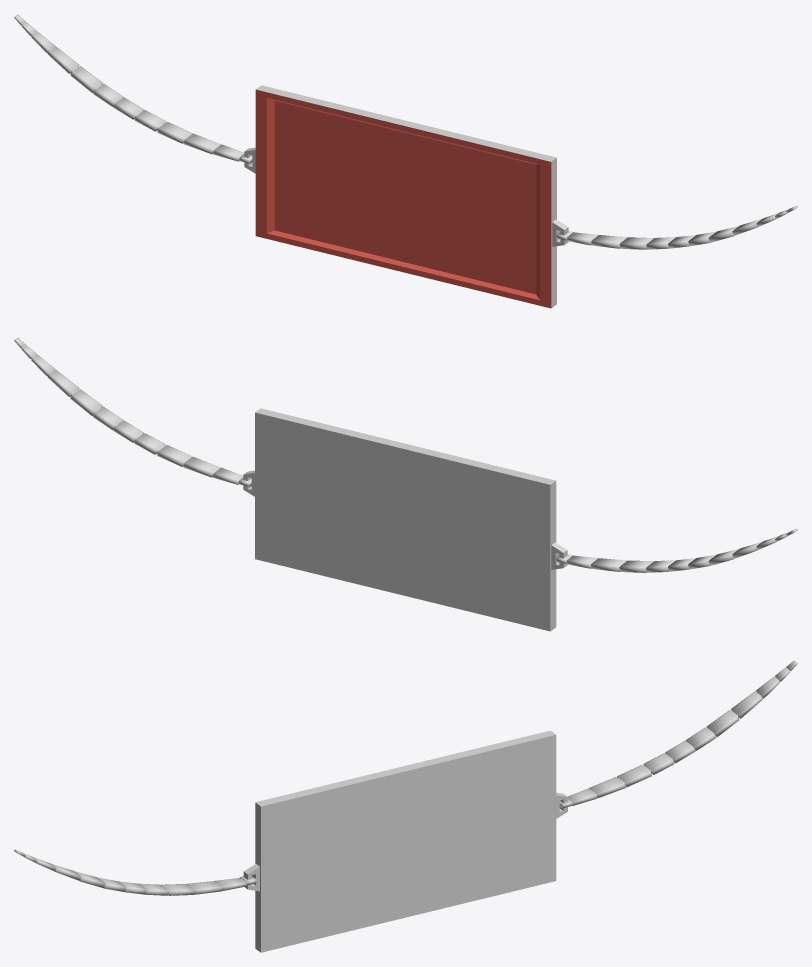
The model's file is atrium_BlockoutSign.fbx.
3 views of the same model, one above another, from view 1: azimuth 30°, elevation 25°; view 2: azimuth 210°, elevation 25°; view 3: azimuth 270°, elevation 25° (orthographic).
Parts seen in each view (by area): view 1: BlockoutSign; view 2: BlockoutSign; view 3: BlockoutSign.
Part boxes in pixels (x1,y1,x2,y2): BlockoutSign: (14,14,797,308); BlockoutSign: (14,337,797,631); BlockoutSign: (14,660,797,952).
Bounding box in the file's own units: 188 × 72.72 × 325.
